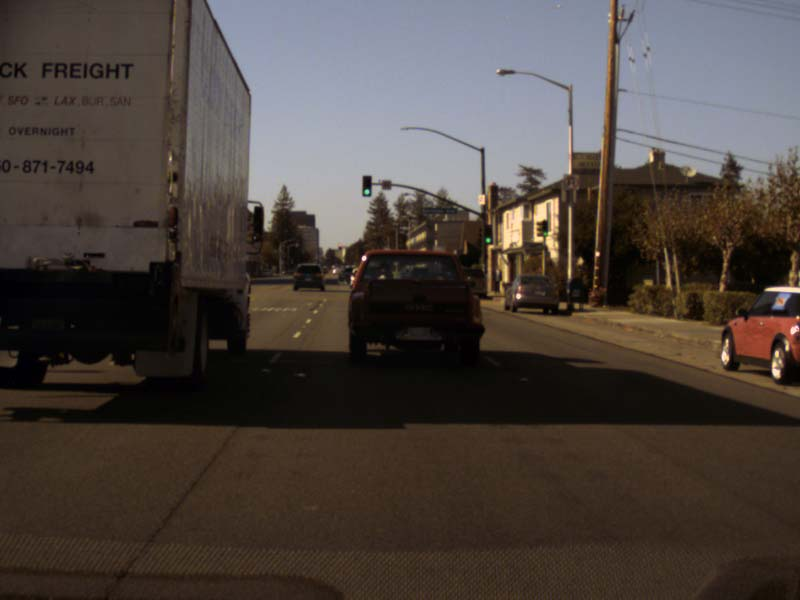Green: (362, 175, 371, 196), (484, 225, 492, 245), (542, 221, 547, 236)
